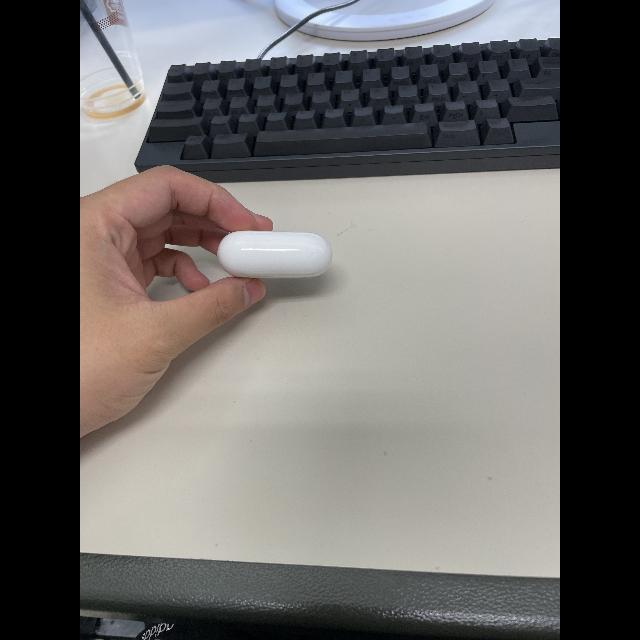airpod3: (215, 223, 333, 280)
